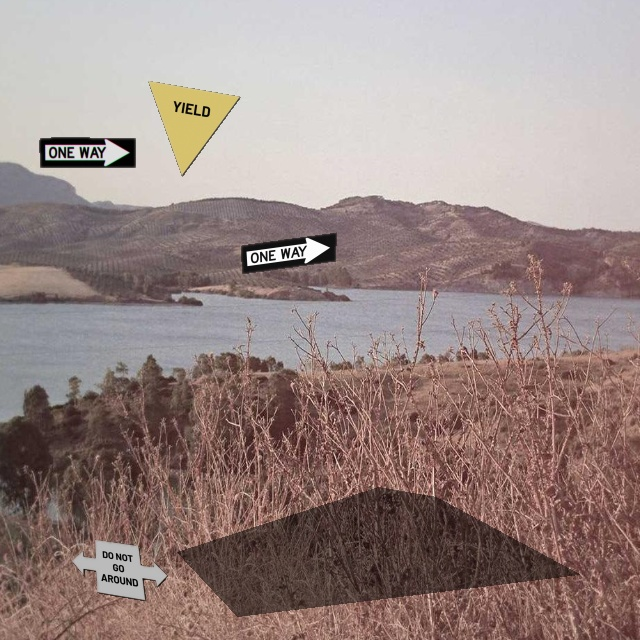DO_NOT_GO_AROUND: (71, 539, 168, 601)
ONE_WAY_ right: (240, 232, 337, 274), (39, 137, 136, 168)
YIELD: (147, 80, 241, 177)
